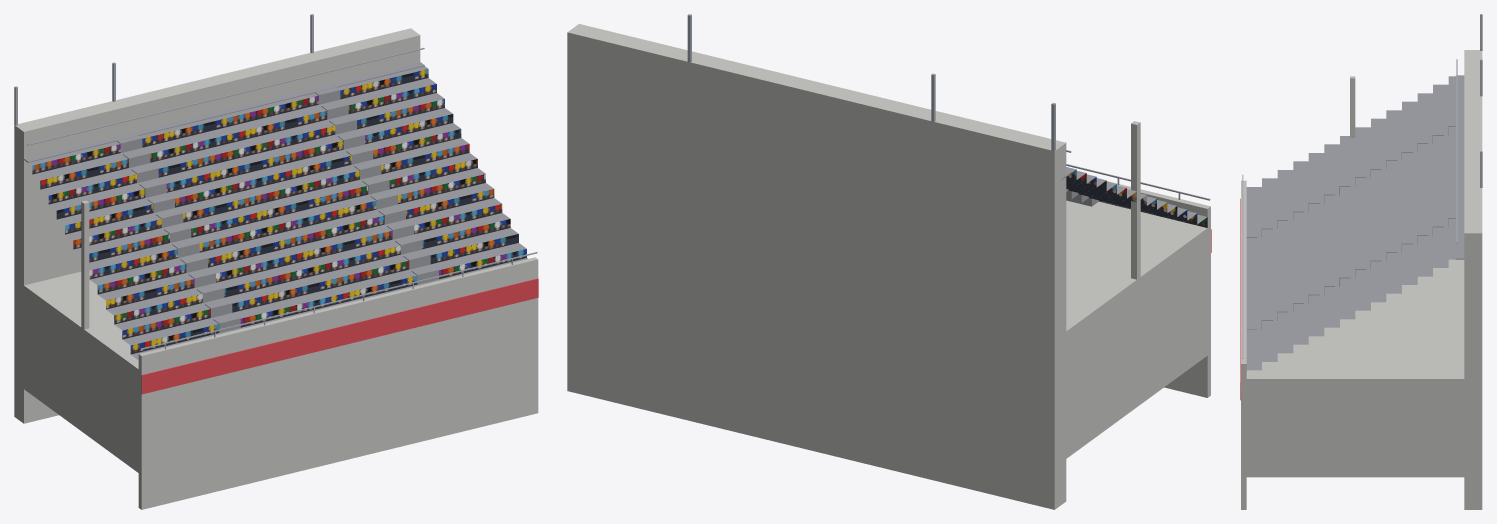
File: arquibancada.glb
The picture shows the model from 3 angles, left to right: view 1: azimuth 30°, elevation 25°; view 2: azimuth 150°, elevation 25°; view 3: azimuth 270°, elevation 25°; orthographic projection. The views are drawn at different scales.
Visible parts, largest first — view 1: concreto, degrau, publico, faixa, aco; view 2: concreto, publico, aco, degrau; view 3: concreto, degrau, aco.
Part boxes in pixels (<box>): concreto: <box>14,28,538,509</box>; degrau: <box>21,62,527,359</box>; publico: <box>32,69,526,354</box>; faixa: <box>141,278,538,394</box>; aco: <box>14,14,537,349</box>; concreto: <box>567,24,1210,509</box>; publico: <box>1066,169,1207,227</box>; aco: <box>687,14,1210,200</box>; degrau: <box>1061,167,1206,224</box>; concreto: <box>1241,50,1482,509</box>; degrau: <box>1246,75,1464,370</box>; aco: <box>1242,14,1482,358</box>.
Size of the model in its own units: 24 by 19.08 by 13.4.
5 materials, 1 textured.
